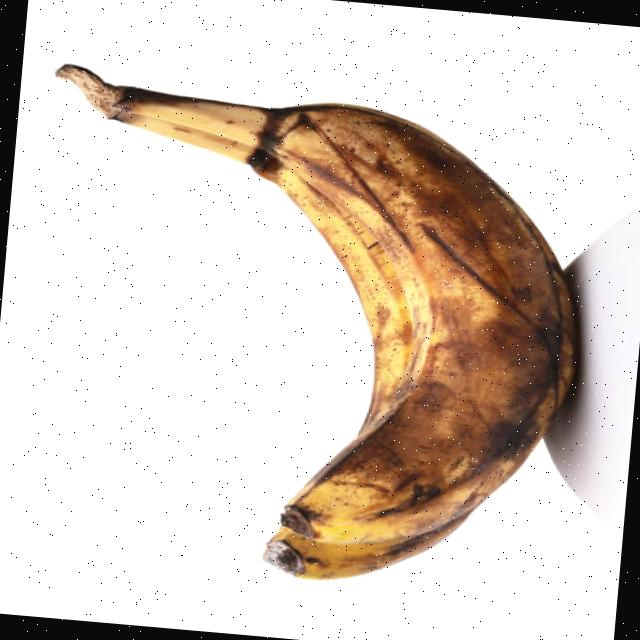overripe: (77, 81, 600, 601)
